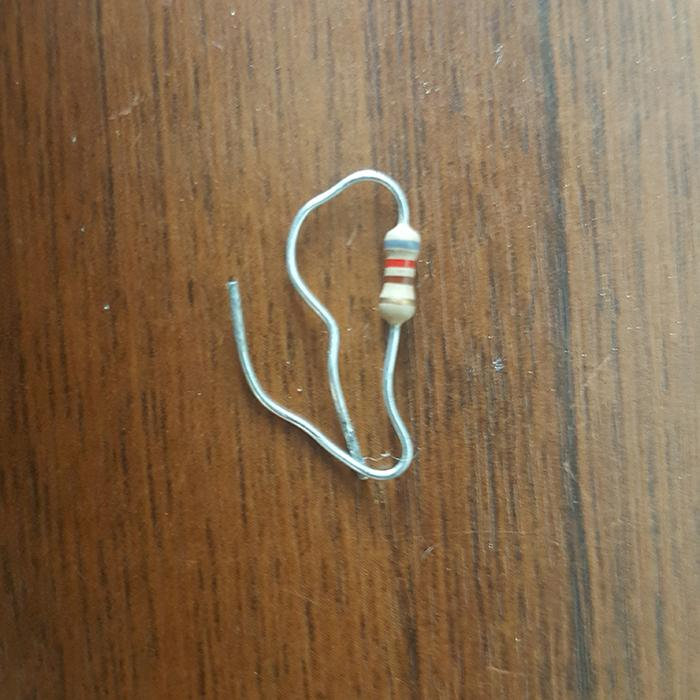resistor: (376, 223, 421, 325)
